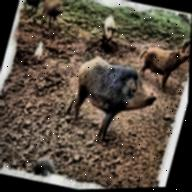boar: (64, 48, 171, 159)
